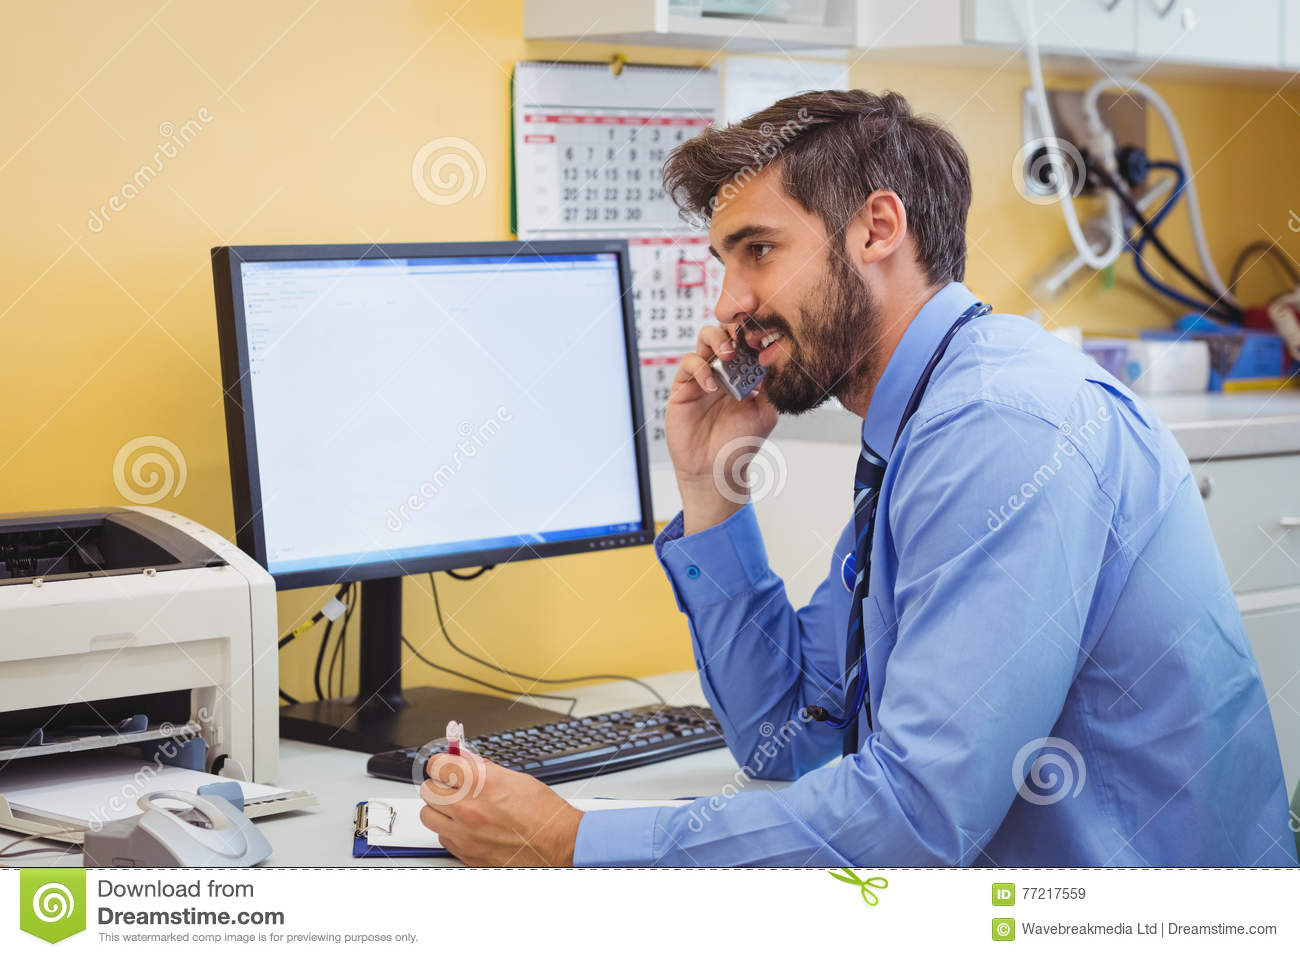phone: (709, 336, 773, 409)
talk: (664, 210, 808, 470)
